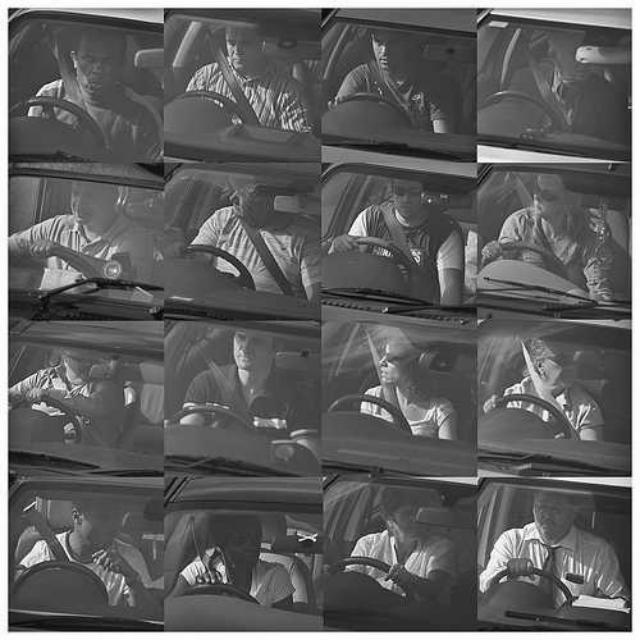Seatbelt: (235, 210, 297, 302), (203, 34, 263, 128), (516, 336, 572, 422), (369, 194, 418, 276), (525, 52, 573, 130), (22, 503, 72, 572), (51, 38, 91, 120), (363, 331, 401, 412)
